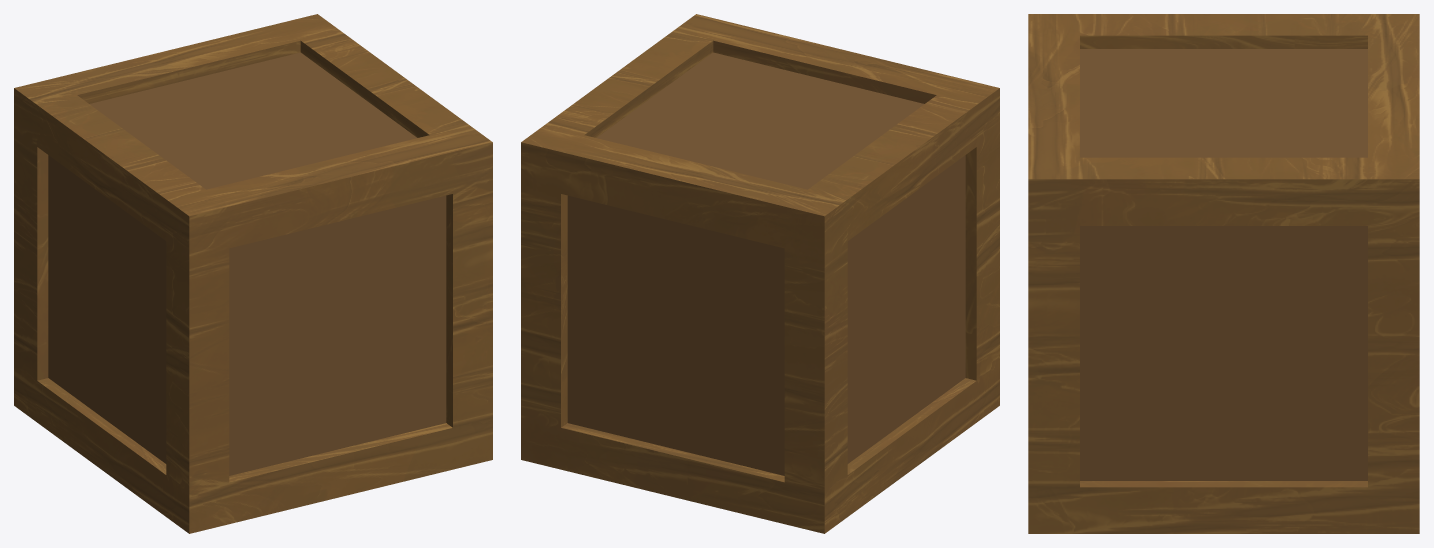
The model's file is Caja.fbx.
3 views of the same model, side by side, from view 1: azimuth 30°, elevation 25°; view 2: azimuth 150°, elevation 25°; view 3: azimuth 270°, elevation 25° (orthographic). The views are drawn at different scales.
Parts seen in each view (by area): view 1: Caja; view 2: Caja; view 3: Caja.
Boxes of the visible parts, left/top/right/bottom form: Caja: left=14, top=14, right=492, bottom=533; Caja: left=521, top=14, right=999, bottom=533; Caja: left=1028, top=14, right=1419, bottom=533.
Bounding box in the file's own units: 78.21 × 78.21 × 78.21.
Materials: 2 (1 with a texture image).
